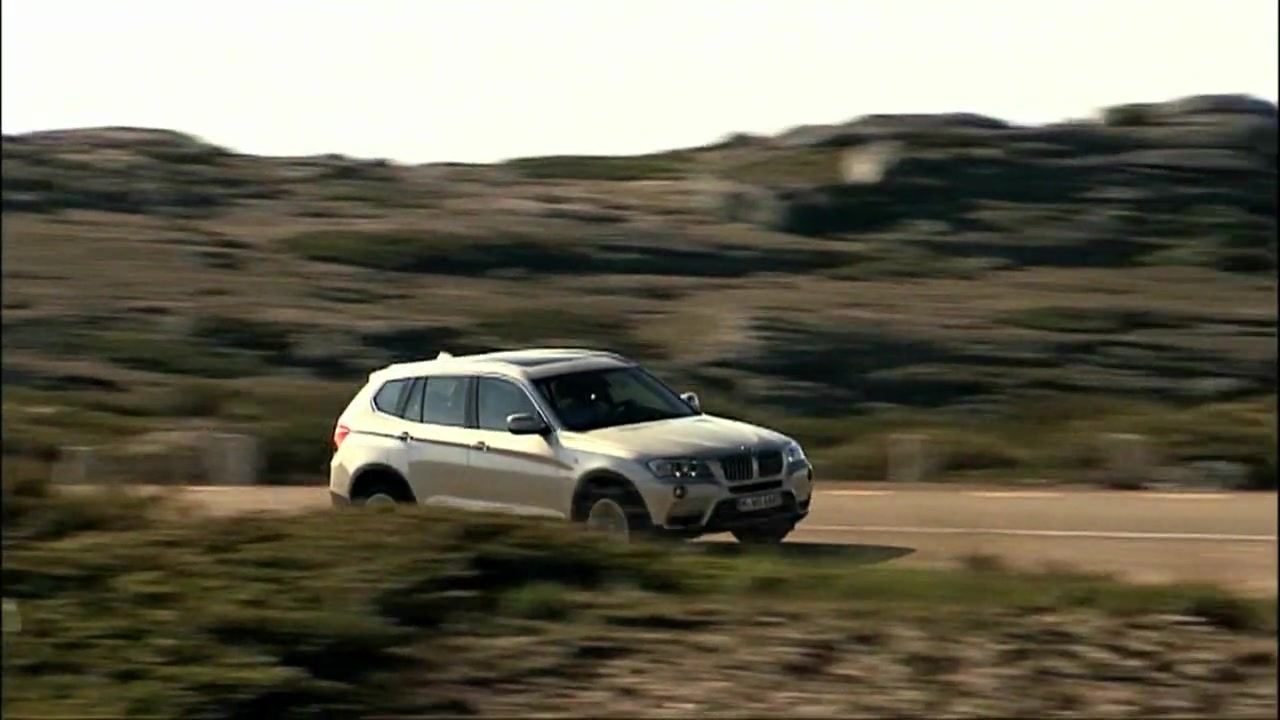car: (327, 345, 816, 555)
